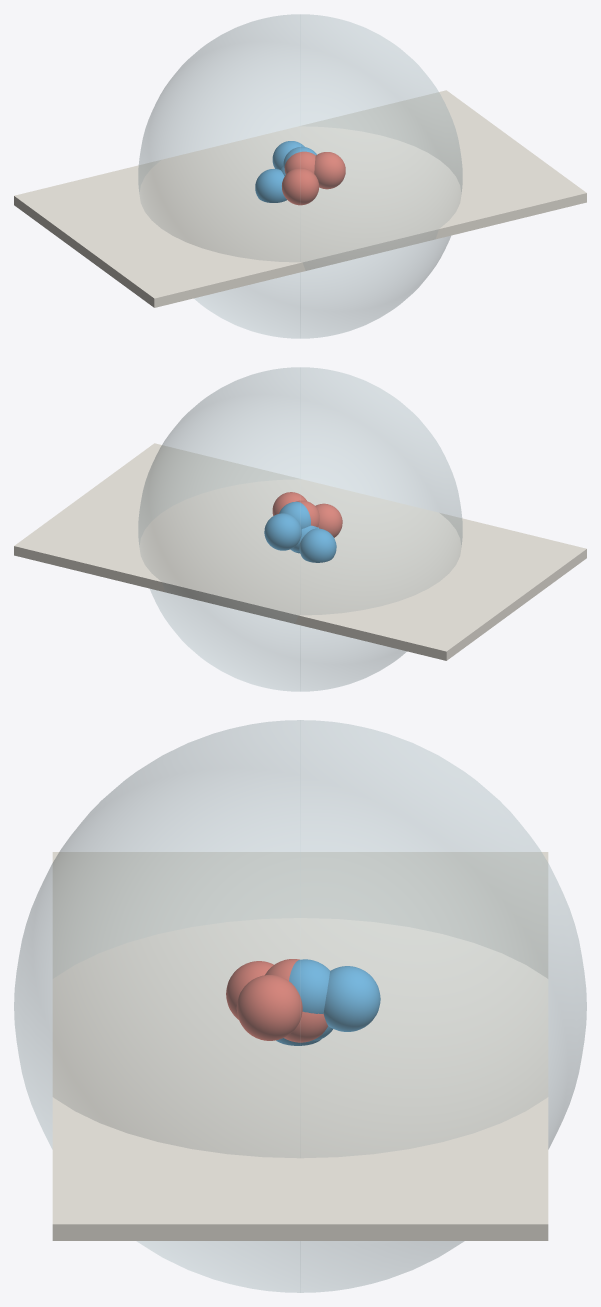
The model's file is chem-atoms-nucleus.glb.
The picture shows the model from 3 angles, top to bottom: view 1: azimuth 30°, elevation 25°; view 2: azimuth 150°, elevation 25°; view 3: azimuth 270°, elevation 25°; orthographic projection. The views are drawn at different scales.
Visible parts, largest first — view 1: electron-cloud-boundary, concept-base, proton-4, proton-2, neutron-2, proton-3; view 2: electron-cloud-boundary, concept-base, neutron-4, neutron-2, proton-4, neutron-5; view 3: electron-cloud-boundary, concept-base, proton-2, neutron-4, neutron-5, proton-4, proton-1.
Boxes of the visible parts, x1,y1,x2,y2 form: electron-cloud-boundary: (138, 14, 462, 338); concept-base: (14, 90, 586, 307); proton-4: (282, 168, 319, 205); proton-2: (314, 152, 345, 189); neutron-2: (255, 169, 286, 202); proton-3: (284, 151, 315, 174); electron-cloud-boundary: (138, 367, 462, 691); concept-base: (14, 443, 586, 660); neutron-4: (264, 513, 301, 550); neutron-2: (299, 528, 336, 562); proton-4: (315, 503, 342, 537); neutron-5: (279, 501, 310, 528); electron-cloud-boundary: (14, 720, 586, 1292); concept-base: (52, 852, 548, 1240); proton-2: (236, 975, 302, 1040); neutron-4: (323, 966, 380, 1031); neutron-5: (289, 959, 330, 1013); proton-4: (226, 961, 273, 1019); proton-1: (284, 1011, 327, 1042).
Size of what is drawn, in the model's own units: 2.4 by 1.56 by 1.56.
